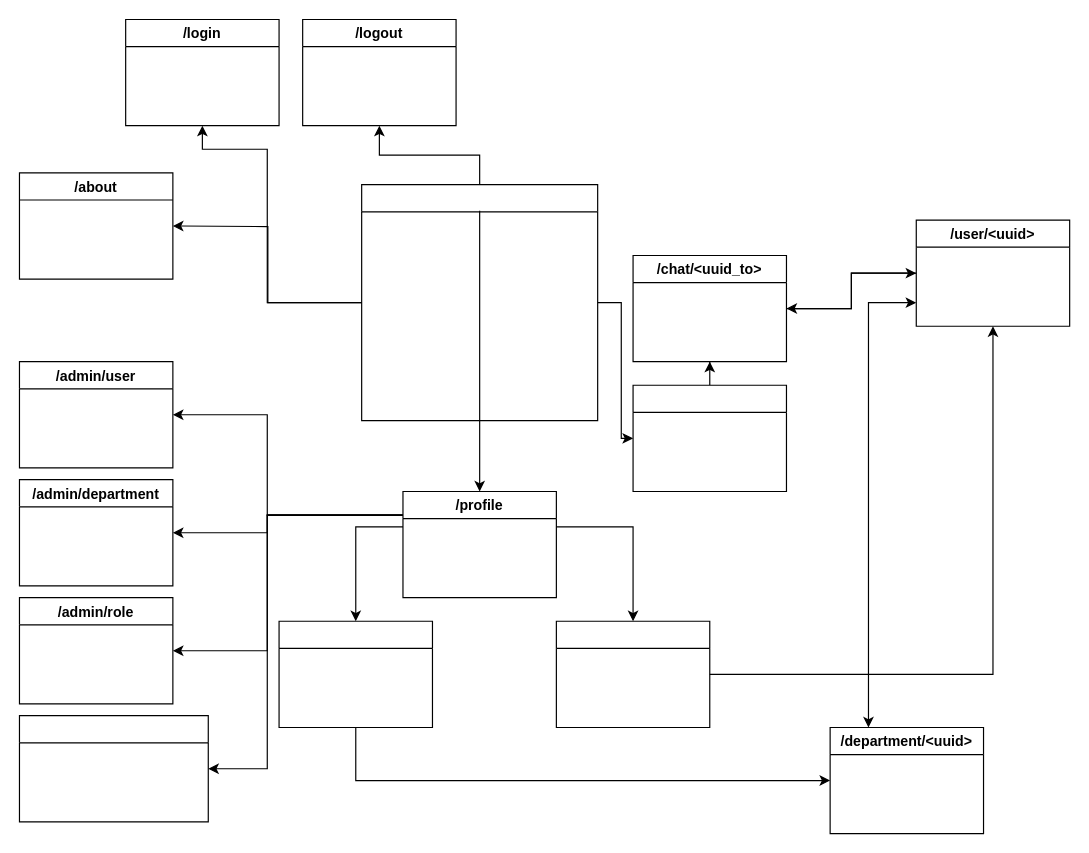
The diagram is 1089 pixels wide and 853 high, and some of its shapes have lost their labels. The shapes that lost their labels are listed below. From the top down, each one's box as (x1, y1, x2, y2) in pixels, then its label:
(360, 183, 598, 421): /main
(632, 384, 786, 491): /chats
(278, 620, 432, 727): /departments
(555, 620, 710, 727): /users
(18, 714, 208, 822): /admin/userdepartmentrole
